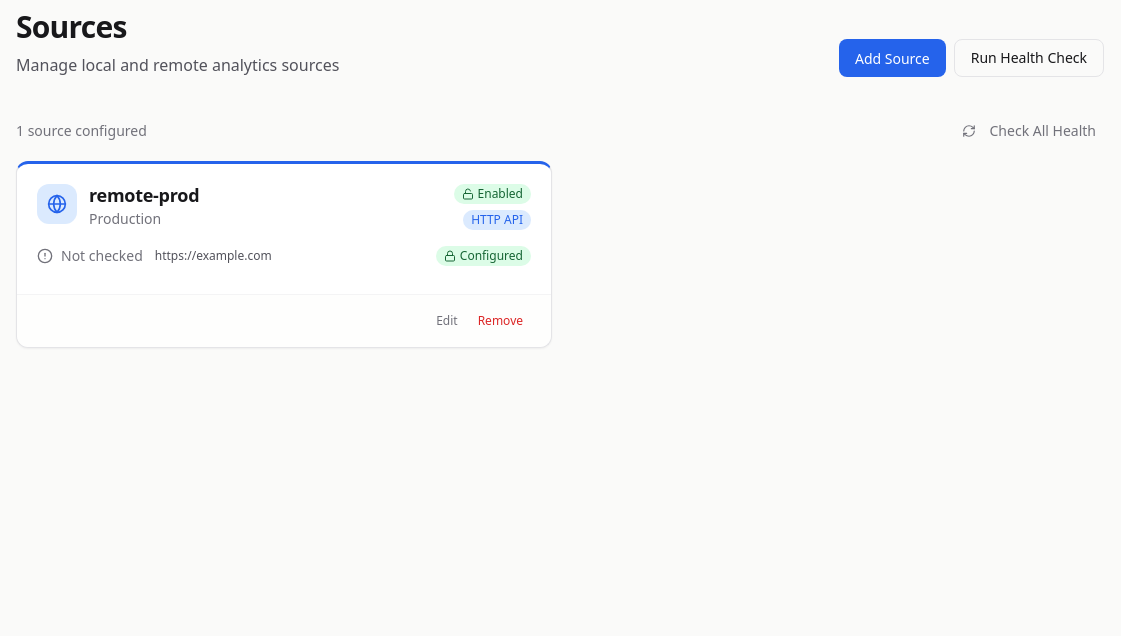
Test case: Sources page › opens edit form from source card
Expected: the heading "remote-prod" is shown, [89,183,199,207]
Click the button with aria-label "Edit remote-prod" at (447, 321), box [428,307,466,335]
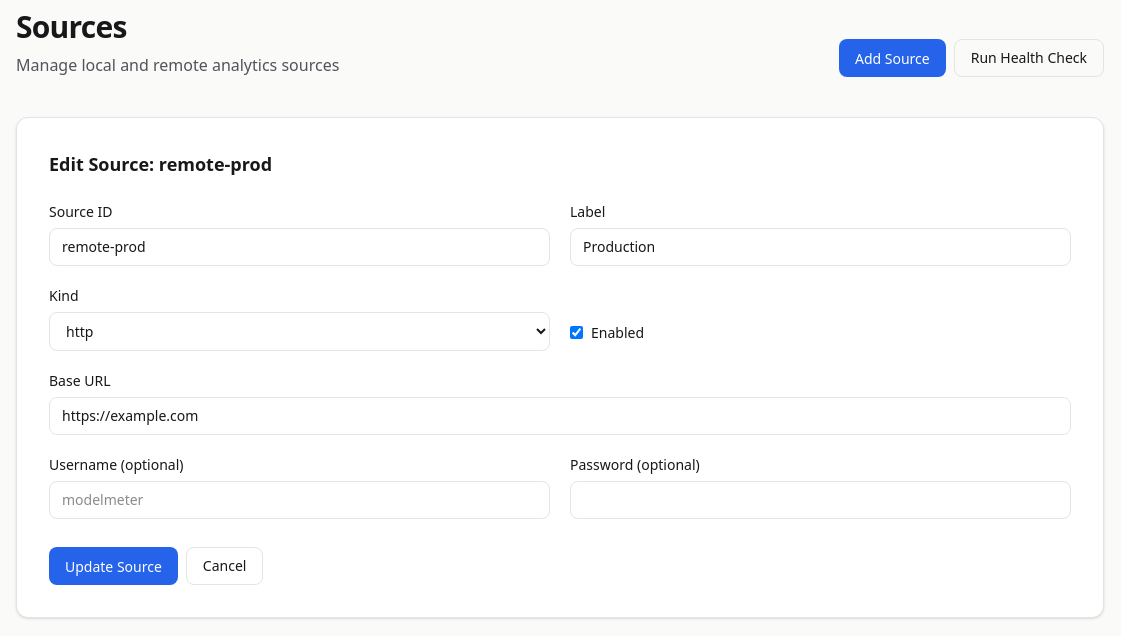
Expected: the heading "Edit Source: remote-prod" is shown, [49,152,272,176]
Expected: the field showing "https://example.com" is shown, [49,397,1071,435]
